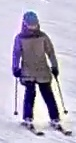skier: (11, 11, 73, 138)
